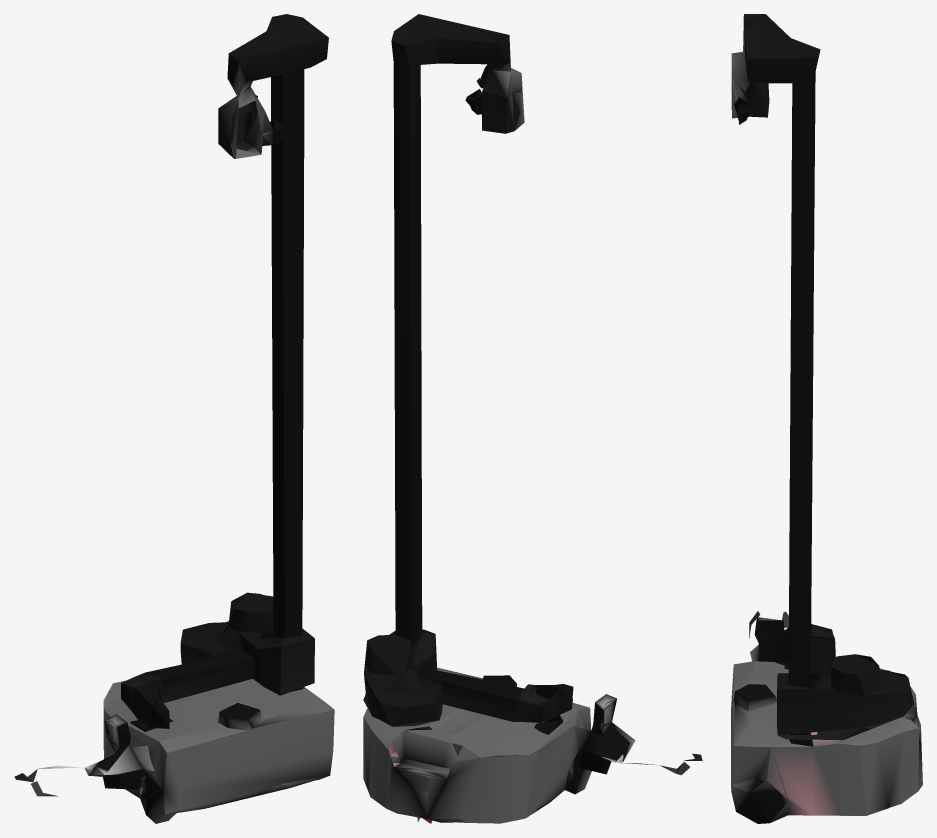
Rendered from stretch-3.l2.glb.
3 renders of one model, left to right at view 1: azimuth 30°, elevation 25°; view 2: azimuth 150°, elevation 25°; view 3: azimuth 270°, elevation 25°, orthographic. The views are drawn at different scales.
Parts seen in each view (by area): view 1: stretch-3__l2; view 2: stretch-3__l2; view 3: stretch-3__l2.
Part boxes in pixels (x1,y1,x2,y2): stretch-3__l2: (14,14,334,823); stretch-3__l2: (363,14,702,823); stretch-3__l2: (731,14,922,823).
Size of the model in its own units: 0.5855 by 1.4 by 0.3173.
